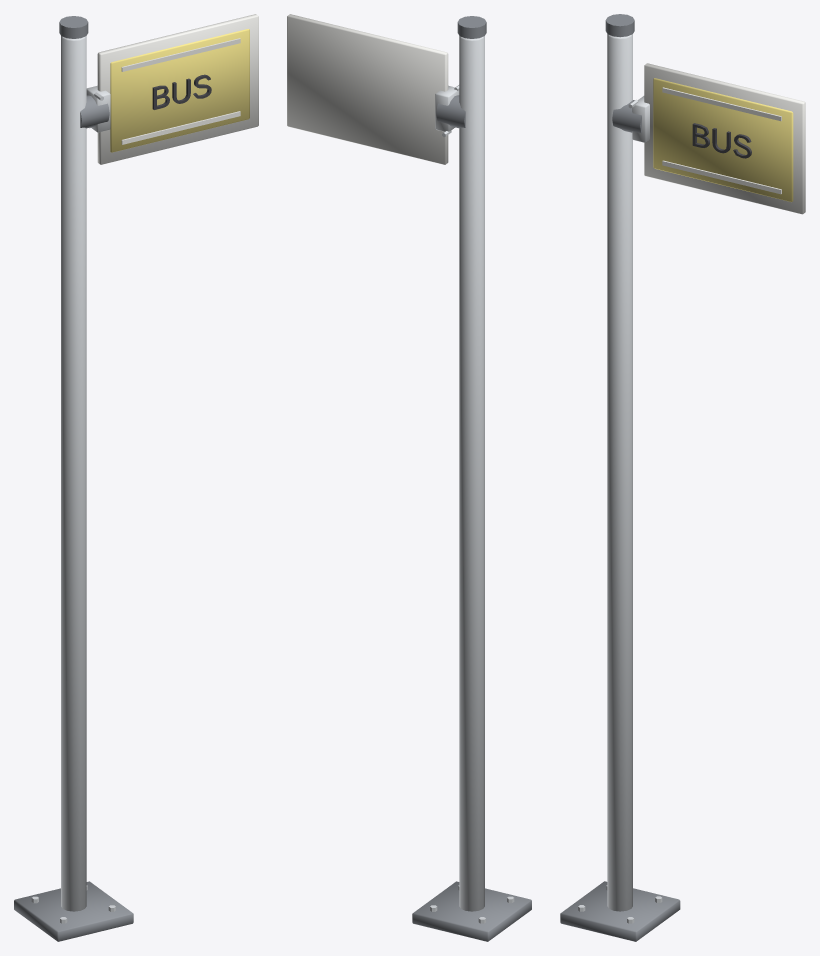
Rendered from BusFlag_Stop.fbx.
3 renders of one model, left to right at view 1: azimuth 30°, elevation 25°; view 2: azimuth 150°, elevation 25°; view 3: azimuth 330°, elevation 25°, orthographic.
Visible parts, largest first — view 1: LOD0; view 2: LOD0; view 3: LOD0.
Part boxes in pixels (x1=…): LOD0: x1=14, y1=14, x2=258, y2=941; LOD0: x1=287, y1=14, x2=531, y2=941; LOD0: x1=560, y1=14, x2=805, y2=941.
Size of what is drawn, in the model's own units: 63.85 by 246 by 22.
